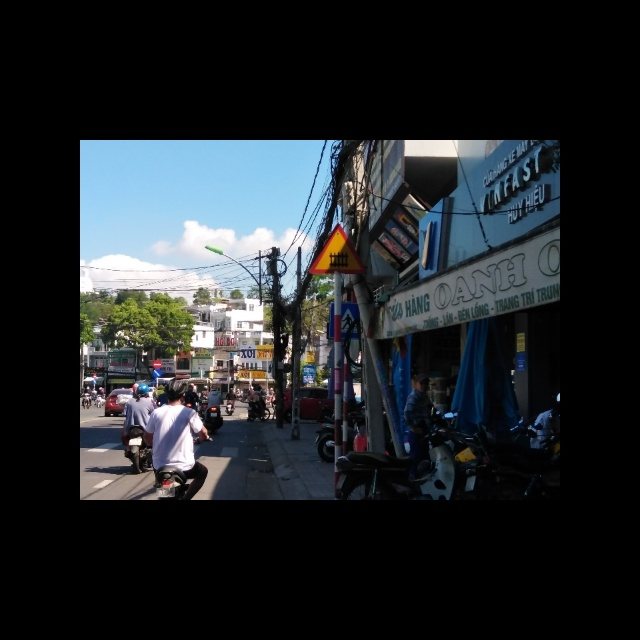Giao nhau với đường sắt có rào chắn: (307, 222, 369, 274)
